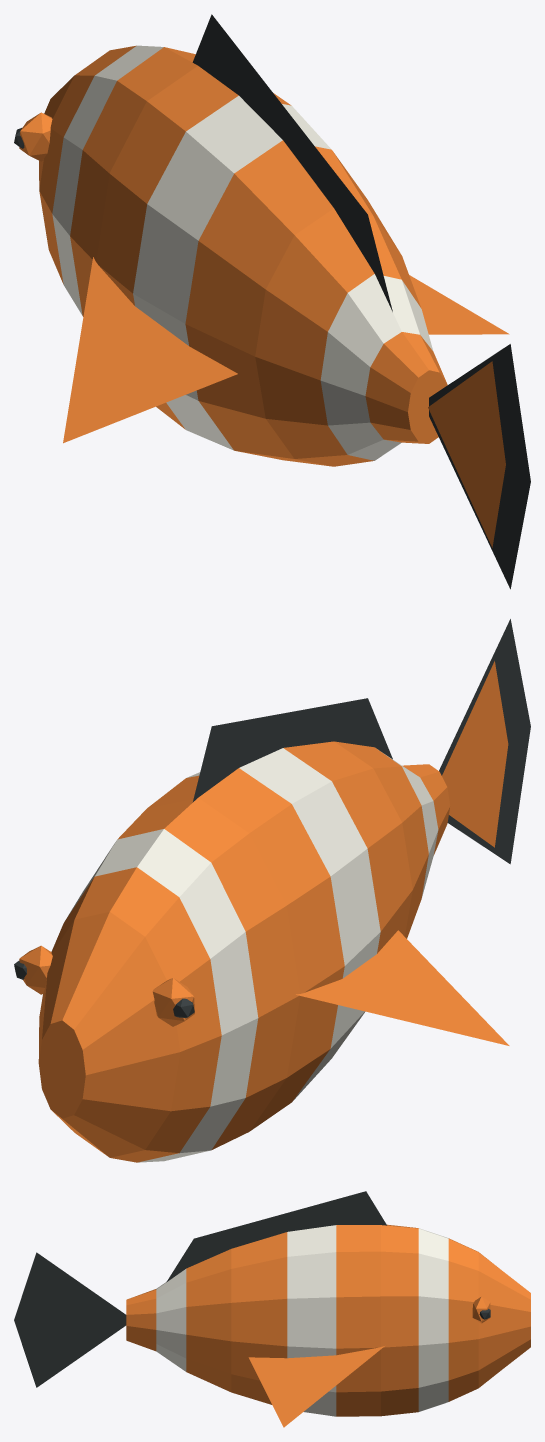
The model's file is Clownfish.fbx.
The picture shows the model from 3 angles, top to bottom: view 1: azimuth 30°, elevation 25°; view 2: azimuth 150°, elevation 25°; view 3: azimuth 270°, elevation 25°; orthographic projection. The views are drawn at different scales.
Parts seen in each view (by area): view 1: Body, Pectoral1, Dorsal, TailColor, TailBorder, Pectoral-1, Eye1; view 2: Body, Pectoral1, Dorsal, TailColor, TailBorder, Eye1, Eye-1; view 3: Body, TailBorder, Dorsal, Pectoral-1, Eye-1.
Part boxes in pixels (x1,y1,x2,y2): Body: (39, 45, 447, 466); Pectoral1: (63, 257, 237, 443); Dorsal: (192, 14, 392, 311); TailColor: (428, 361, 505, 547); TailBorder: (429, 344, 530, 589); Pectoral-1: (409, 275, 509, 334); Eye1: (19, 112, 52, 161); Body: (38, 741, 450, 1162); Pectoral1: (296, 930, 509, 1045); Dorsal: (192, 698, 392, 802); TailColor: (442, 661, 508, 847); TailBorder: (439, 619, 530, 864); Eye1: (152, 978, 194, 1026); Eye-1: (19, 945, 52, 994); Body: (126, 1224, 530, 1416); TailBorder: (14, 1252, 126, 1387); Dorsal: (166, 1191, 386, 1282); Pectoral-1: (248, 1346, 384, 1427); Eye-1: (472, 1296, 490, 1323).
Size of the model in its own units: 0.38 by 0.33 by 0.69.
